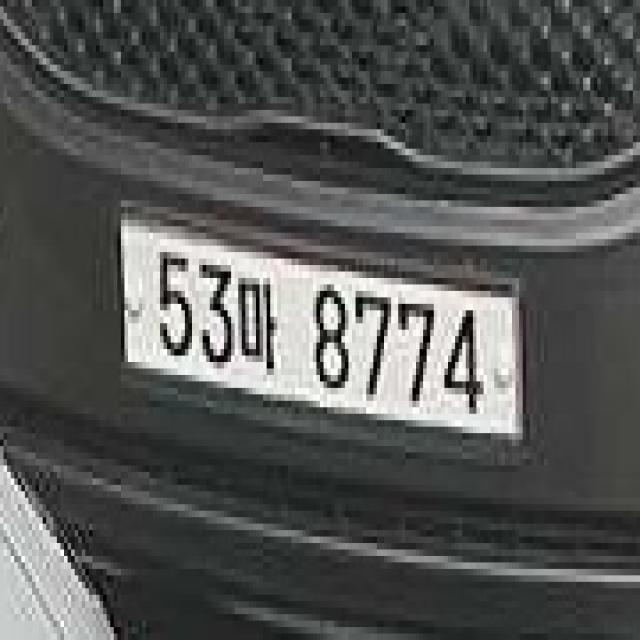3: (192, 246, 238, 375)
4: (441, 304, 491, 433)
5: (153, 239, 203, 362)
7: (349, 272, 391, 408), (395, 284, 437, 420)
8: (306, 272, 356, 408)
license_plate: (100, 194, 534, 465)
ma: (235, 278, 281, 368)
